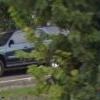Tree: (38, 6, 98, 91)
